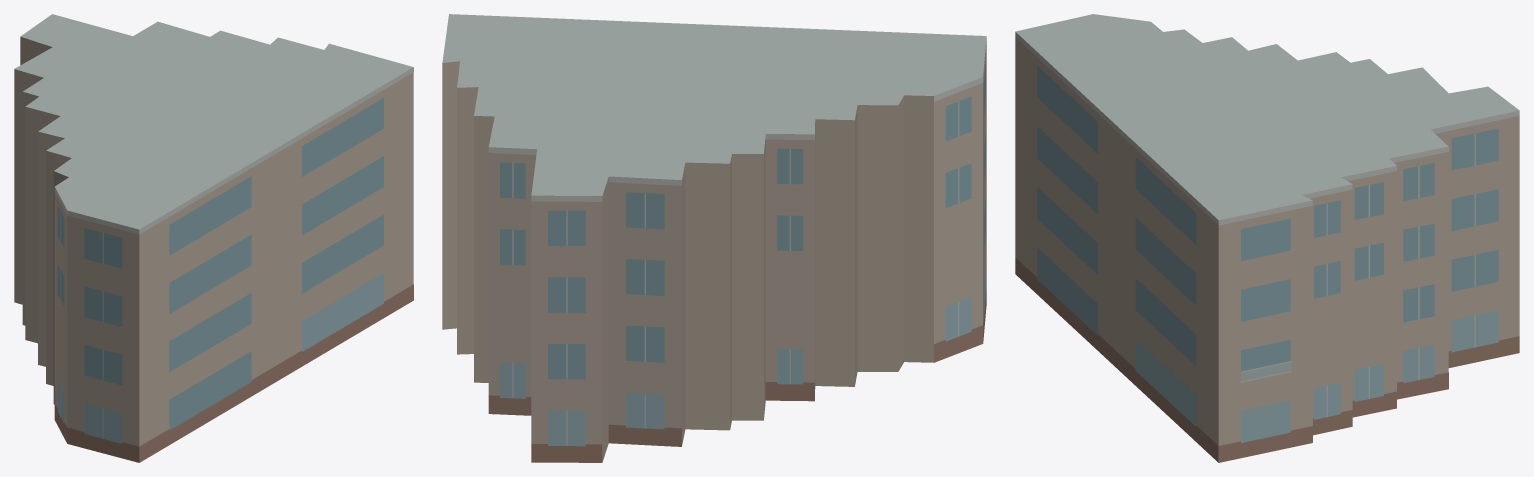
The model's file is survey-upis-33042217.glb.
3 renders of one model, left to right at view 1: azimuth 30°, elevation 25°; view 2: azimuth 150°, elevation 25°; view 3: azimuth 270°, elevation 25°, orthographic. The views are drawn at different scales.
Visible parts, largest first — view 1: survey-upis-33042217.tmp; view 2: survey-upis-33042217.tmp; view 3: survey-upis-33042217.tmp.
Part boxes in pixels (x1,y1,x2,y2): survey-upis-33042217.tmp: (14,14,413,462); survey-upis-33042217.tmp: (442,14,986,462); survey-upis-33042217.tmp: (1015,14,1519,462).
Size of the model in its own units: 20.44 by 11.2 by 21.12.
